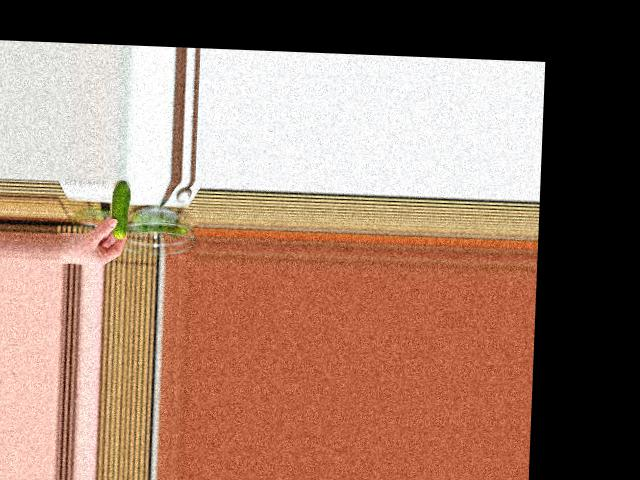cucumber: (110, 180, 130, 239)
